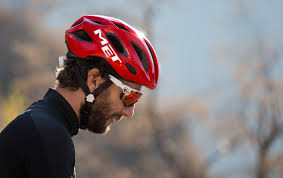helmet: (57, 15, 159, 136)
